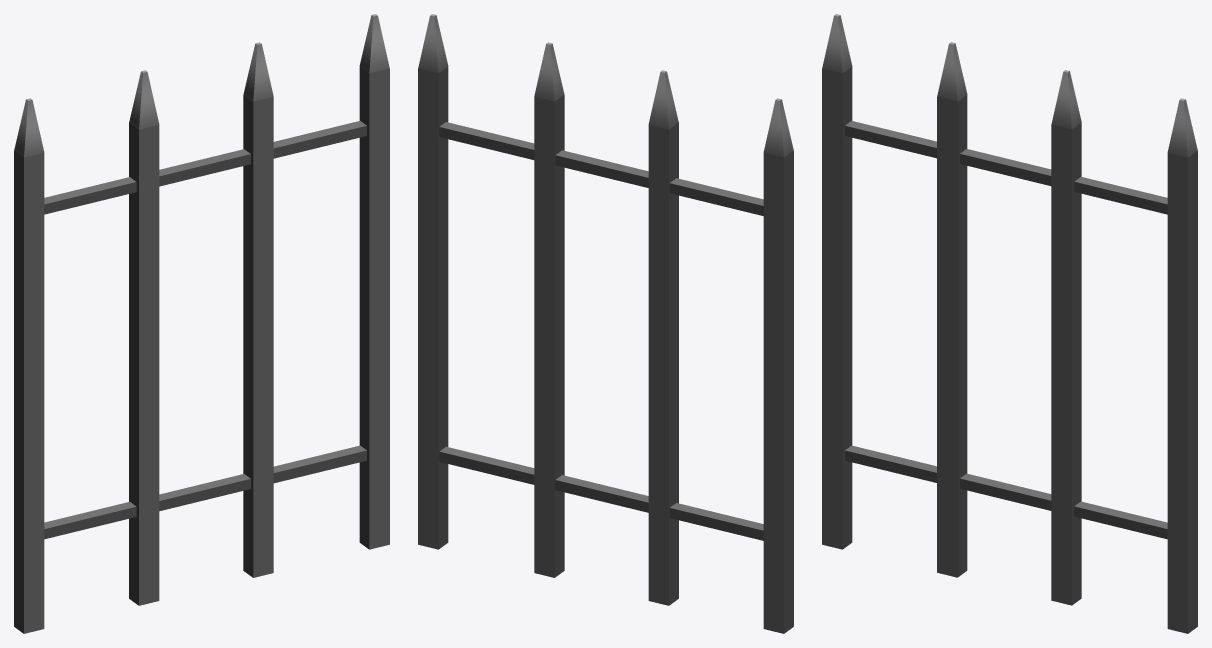
File: fence_short_spike.fbx
3 views of the same model, side by side, from view 1: azimuth 30°, elevation 25°; view 2: azimuth 150°, elevation 25°; view 3: azimuth 330°, elevation 25° (orthographic).
Visible parts, largest first — view 1: fence_short_spike; view 2: fence_short_spike; view 3: fence_short_spike.
Boxes of the visible parts, x1,y1,x2,y2 form: fence_short_spike: (14,14,389,633); fence_short_spike: (418,14,793,633); fence_short_spike: (822,14,1197,633).
Bounding box in the file's own units: 2.54 × 3.51 × 0.1183.
